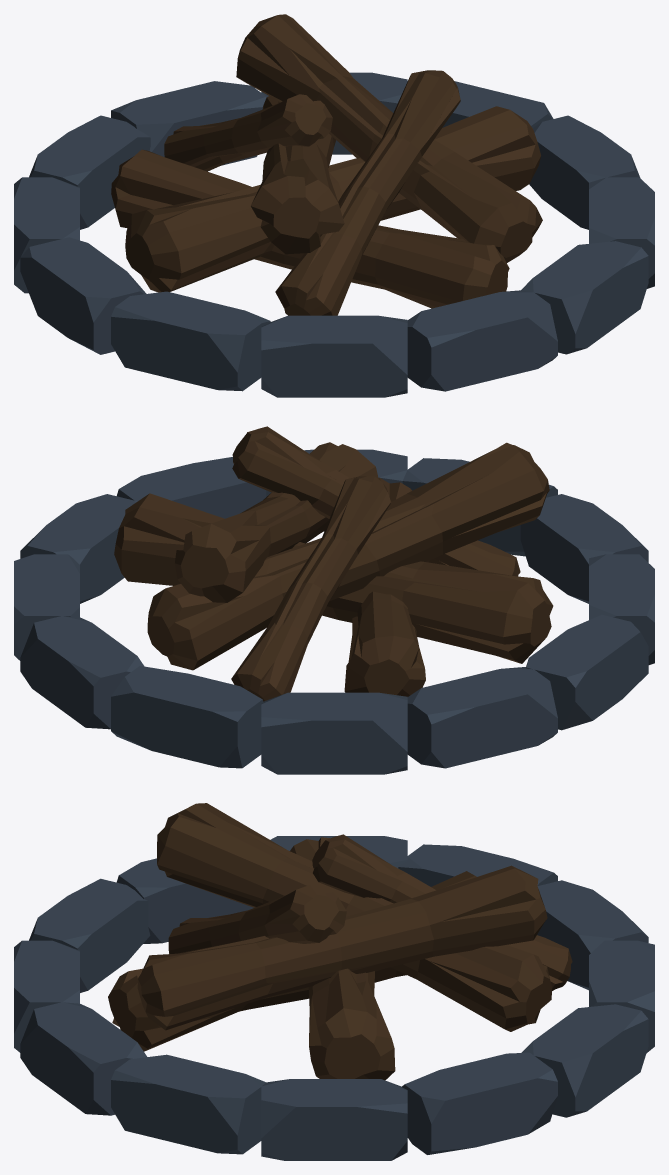
Rendered from CampFire.fbx.
3 views of the same model, one above another, from view 1: azimuth 30°, elevation 25°; view 2: azimuth 150°, elevation 25°; view 3: azimuth 270°, elevation 25° (orthographic).
Visible parts, largest first — view 1: Cube.009, Cylinder.003; view 2: Cube.009, Cylinder.003; view 3: Cube.009, Cylinder.003.
Boxes of the visible parts, x1,y1,x2,y2 form: Cube.009: (14,72,654,397); Cylinder.003: (111,14,542,315); Cube.009: (14,449,654,774); Cylinder.003: (114,426,553,701); Cube.009: (14,836,654,1160); Cylinder.003: (108,803,572,1080).
Size of the model in its own units: 269 by 83.84 by 269.
